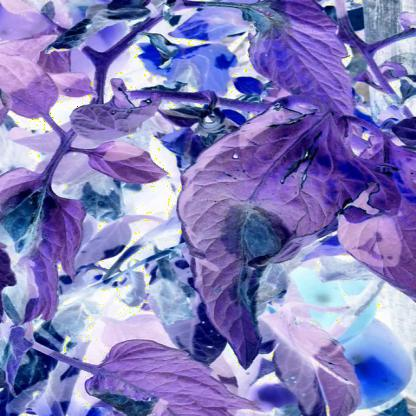tomato leaf late blight: (183, 90, 363, 368), (231, 3, 360, 125), (68, 339, 275, 415), (1, 160, 80, 323)
